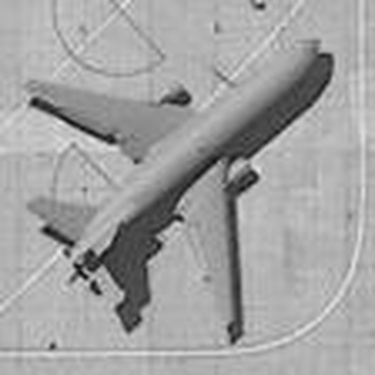airplane: (12, 13, 340, 350)
